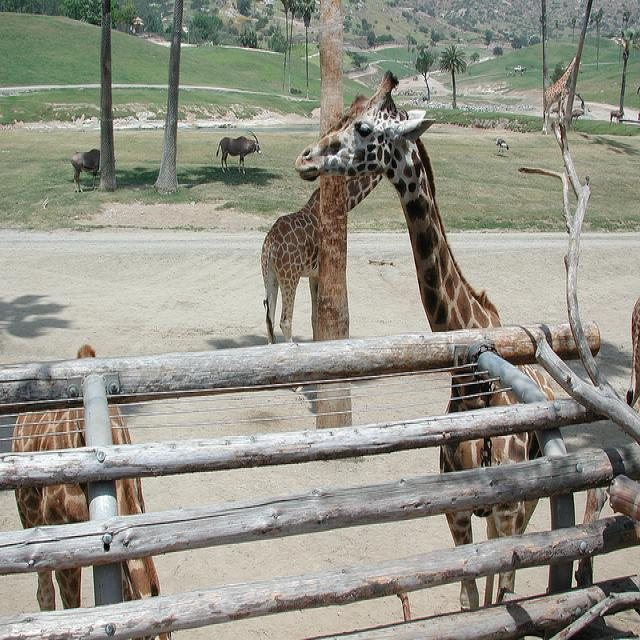cow: (215, 128, 261, 172), (69, 147, 99, 191)
